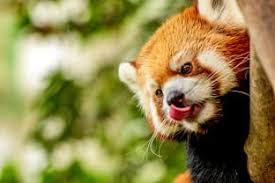redPanda: (110, 3, 247, 151)
